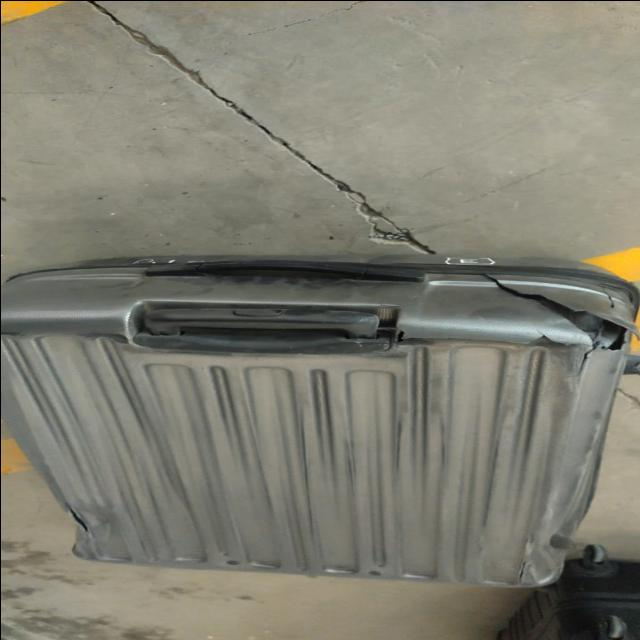Damage-bag: (496, 282, 626, 349)
